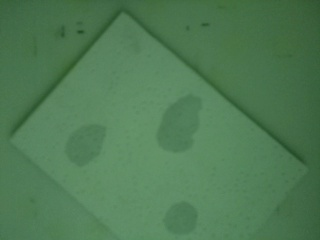Water_detected: (156, 102, 206, 157), (72, 125, 113, 167), (165, 197, 198, 226)
